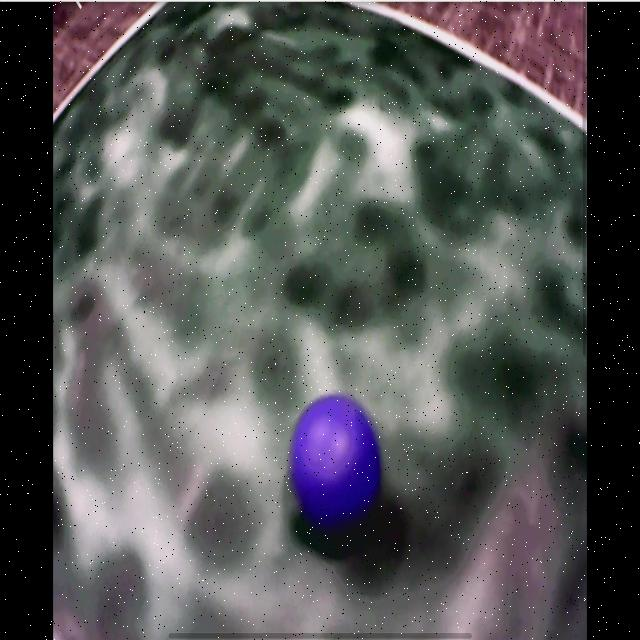ball: (293, 396, 383, 541)
